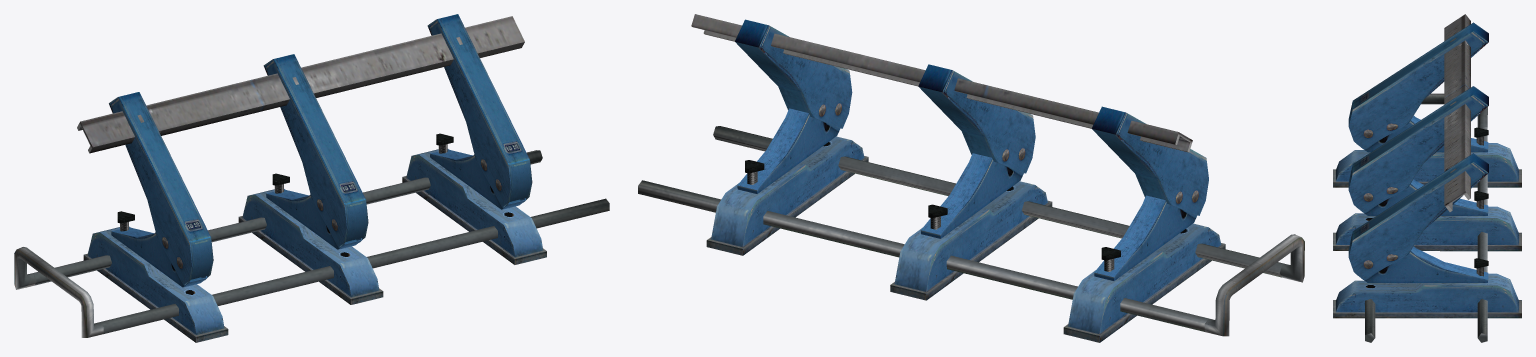
The model's file is hole_puncher-1.FBX.
3 renders of one model, left to right at view 1: azimuth 30°, elevation 25°; view 2: azimuth 150°, elevation 25°; view 3: azimuth 270°, elevation 25°, orthographic. The views are drawn at different scales.
Parts seen in each view (by area): view 1: hole_puncher-1_LOD0; view 2: hole_puncher-1_LOD0; view 3: hole_puncher-1_LOD0.
Part boxes in pixels (x1=…): hole_puncher-1_LOD0: x1=14, y1=14, x2=609, y2=342; hole_puncher-1_LOD0: x1=638, y1=14, x2=1304, y2=342; hole_puncher-1_LOD0: x1=1333, y1=14, x2=1521, y2=342.
Size of what is drawn, in the model's own units: 22.38 by 7.48 by 8.31.
